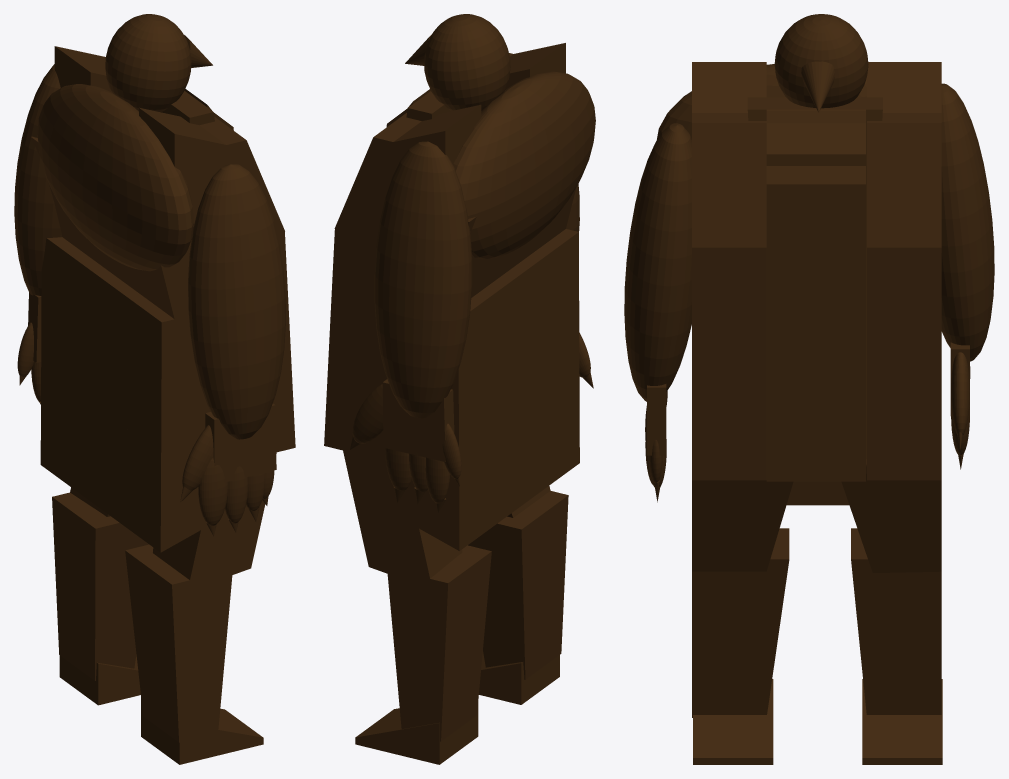
Rendered from BeastJoined.glb.
3 renders of one model, left to right at view 1: azimuth 30°, elevation 25°; view 2: azimuth 150°, elevation 25°; view 3: azimuth 270°, elevation 25°, orthographic. The views are drawn at different scales.
Visible parts, largest first — view 1: Cone.001; view 2: Cone.001; view 3: Cone.001.
Part boxes in pixels (box(x1,y1,x2,y2)): Cone.001: box(14, 14, 295, 764); Cone.001: box(324, 14, 595, 764); Cone.001: box(624, 14, 994, 764).
Size of the model in its own units: 5.32 by 21.36 by 9.93.
